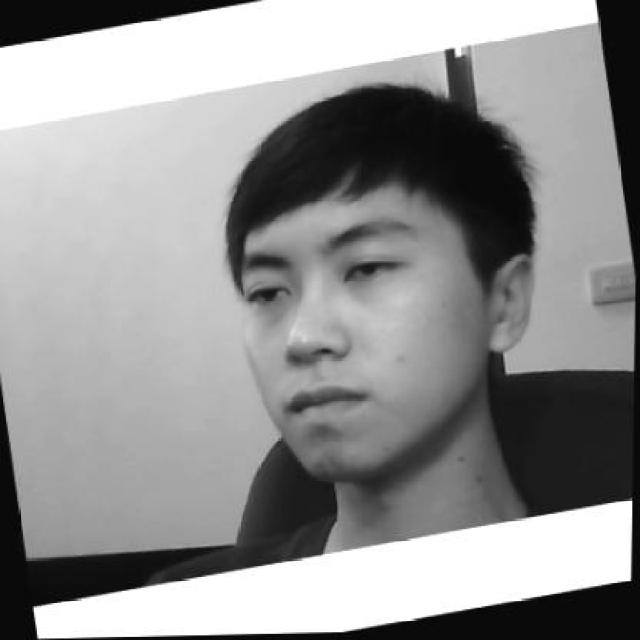inattentif: (199, 61, 561, 492)
